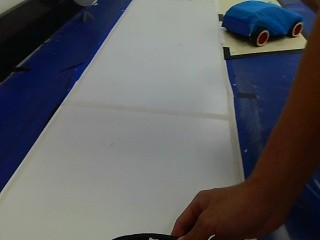car: (216, 1, 304, 44)
